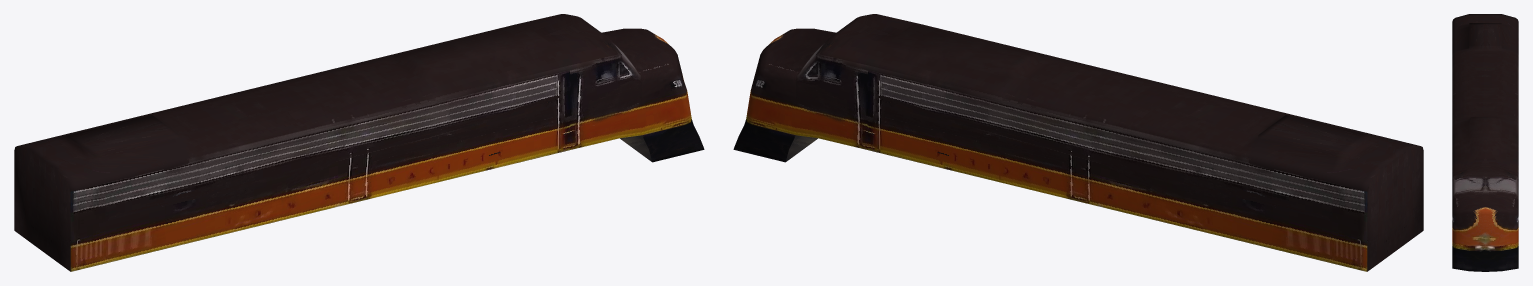
File: heritage-1953ea-model.glb
3 renders of one model, left to right at view 1: azimuth 30°, elevation 25°; view 2: azimuth 150°, elevation 25°; view 3: azimuth 270°, elevation 25°, orthographic. The views are drawn at different scales.
Visible parts, largest first — view 1: train1953ea_model; view 2: train1953ea_model; view 3: train1953ea_model.
Boxes of the visible parts, bbox=[...] form: train1953ea_model: bbox=[14, 14, 704, 271]; train1953ea_model: bbox=[733, 14, 1423, 271]; train1953ea_model: bbox=[1452, 14, 1518, 271].
Bounding box in the file's own units: 21.41 × 4.13 × 3.24.
1 material, 1 textured.
